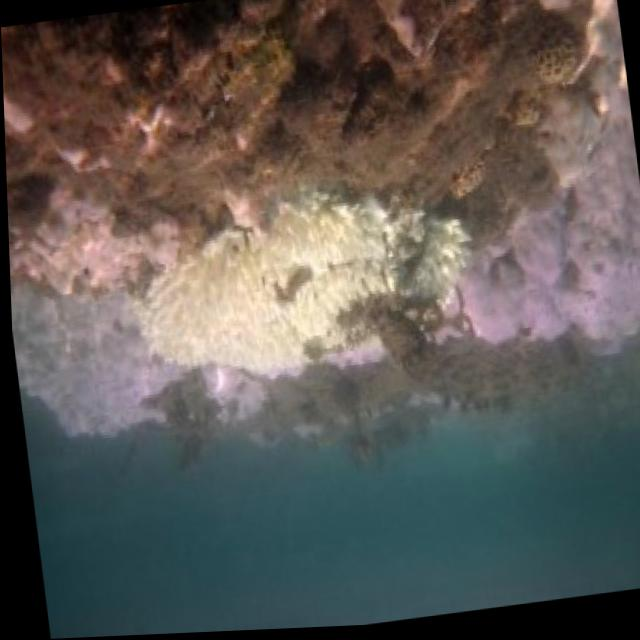Bleached Coral: (99, 186, 479, 417)
